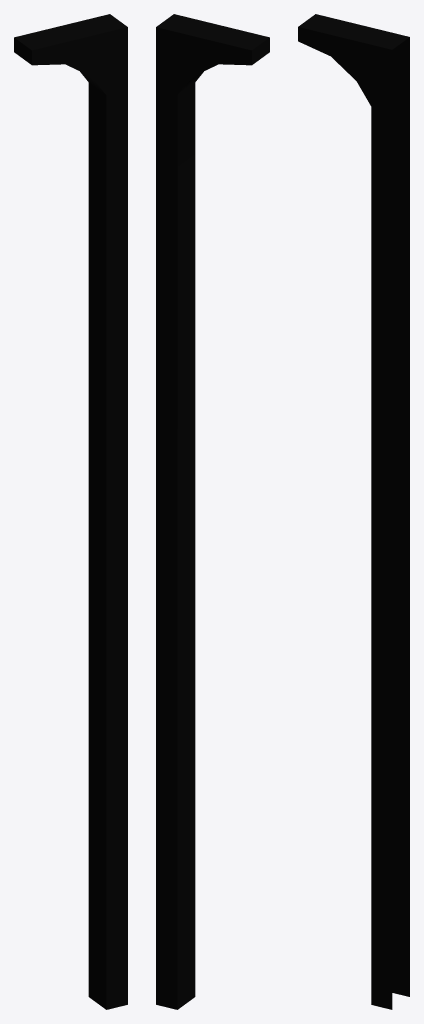
The model's file is ThinPillarMESH_Water_1.fbx.
The picture shows the model from 3 angles, left to right: view 1: azimuth 30°, elevation 25°; view 2: azimuth 150°, elevation 25°; view 3: azimuth 330°, elevation 25°; orthographic projection.
Visible parts, largest first — view 1: pCube32; view 2: pCube32; view 3: pCube32.
Part boxes in pixels (x1,y1,x2,y2): pCube32: [14, 14, 127, 1009]; pCube32: [156, 14, 269, 1009]; pCube32: [298, 14, 409, 1009].
Bounding box in the file's own units: 51.35 × 500 × 16.6.
1 material, 1 textured.
